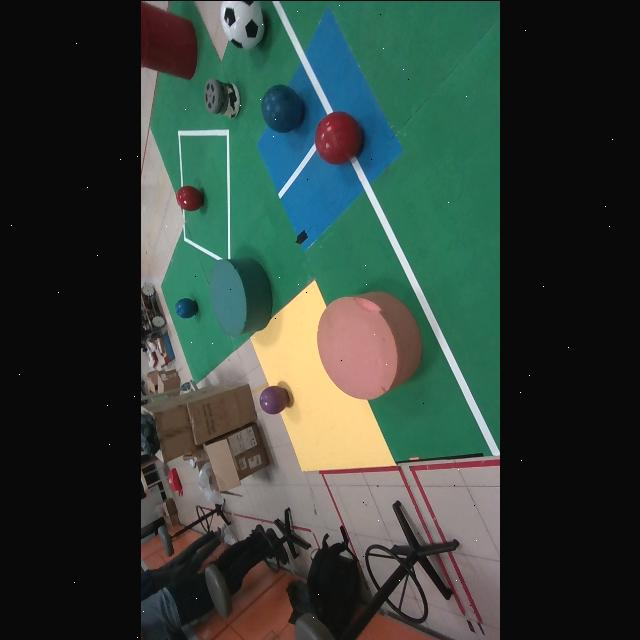B: (261, 84, 303, 132), (173, 298, 197, 318)
P: (259, 385, 288, 413)
R: (314, 110, 362, 164), (175, 185, 203, 210)
